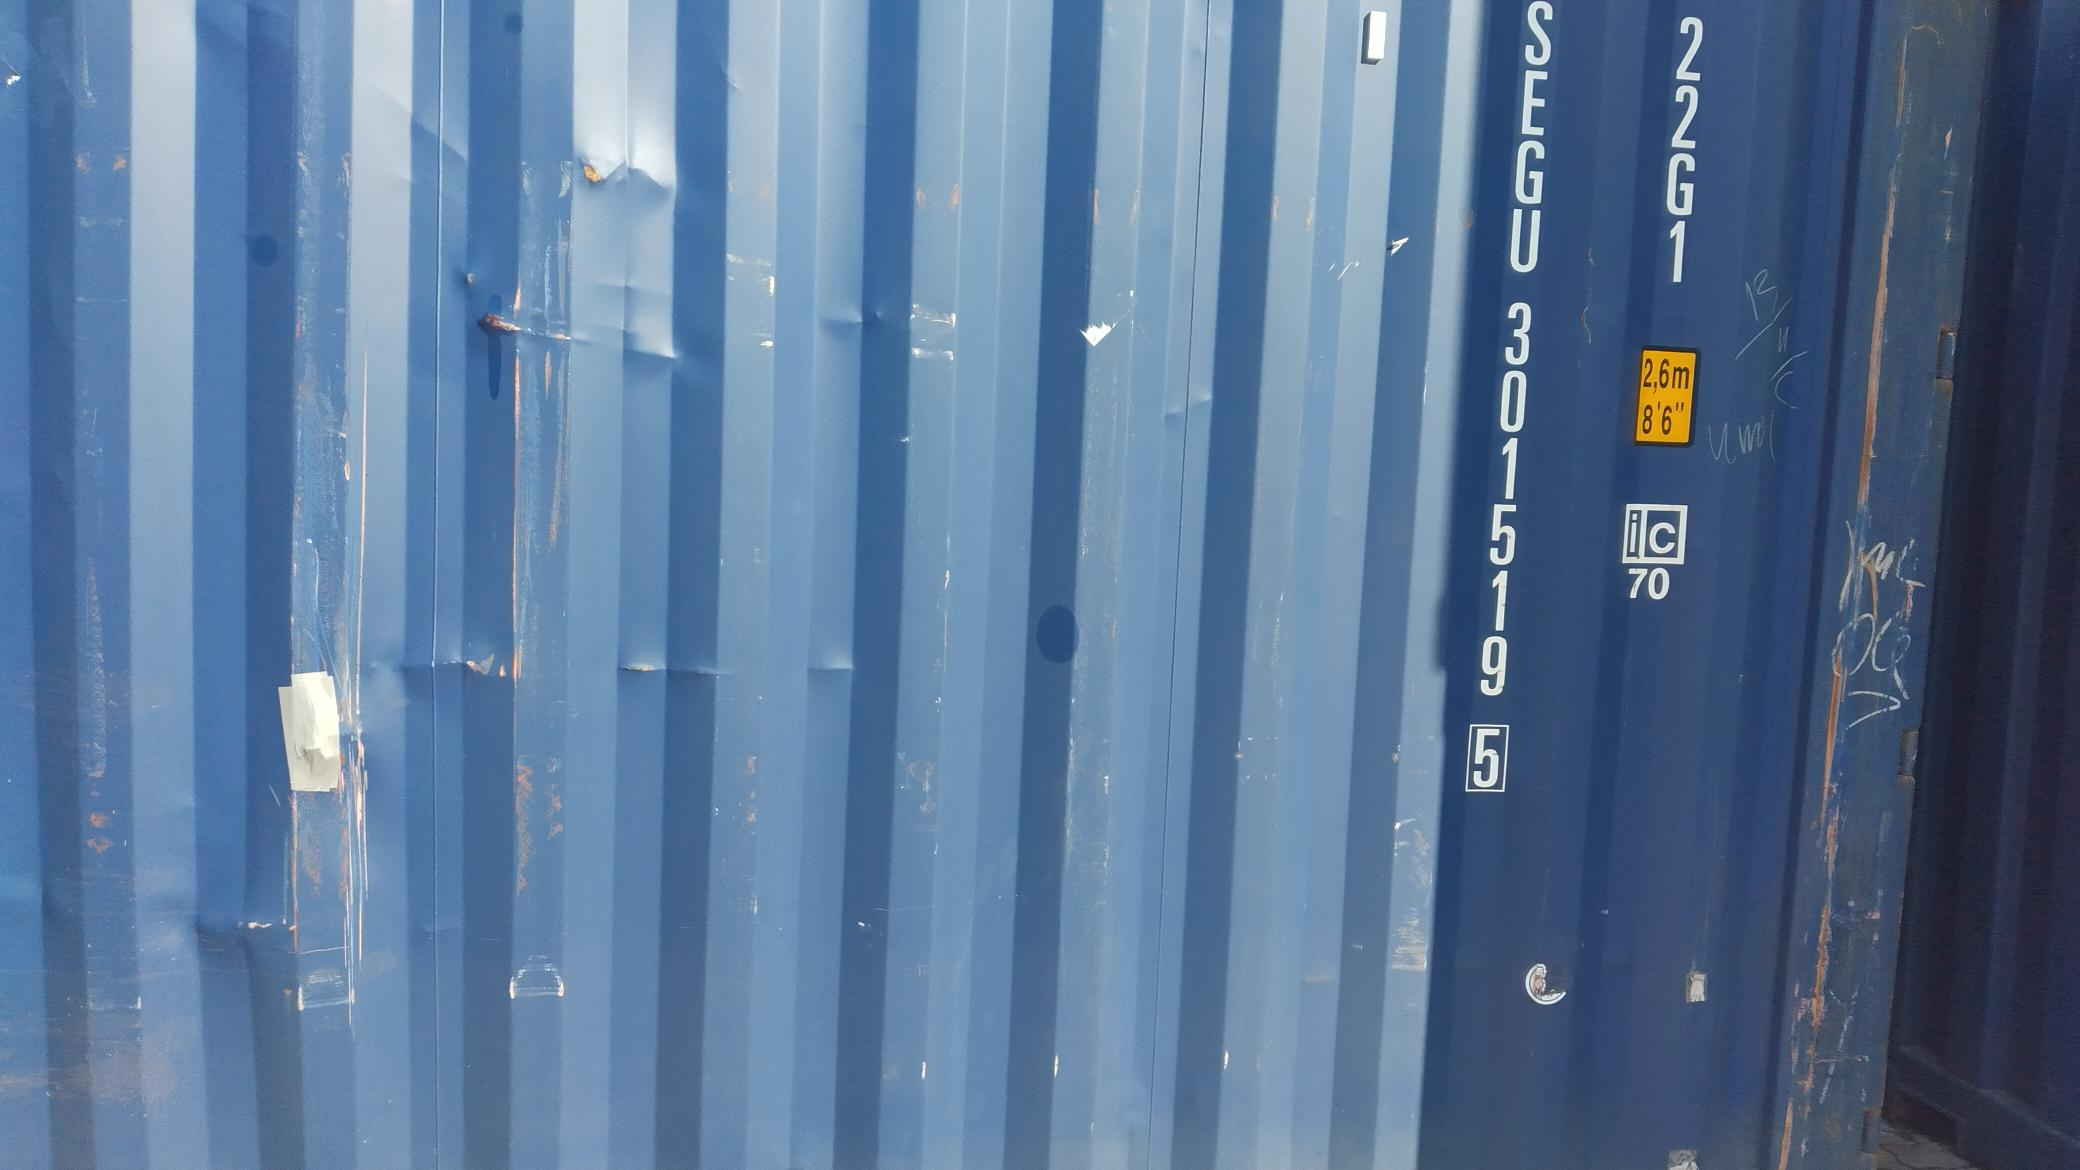dented: (471, 109, 751, 361), (389, 639, 997, 717)
